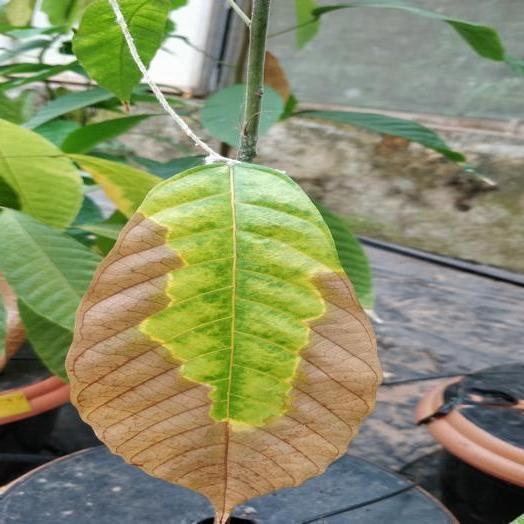Potassium: (66, 163, 380, 522)
